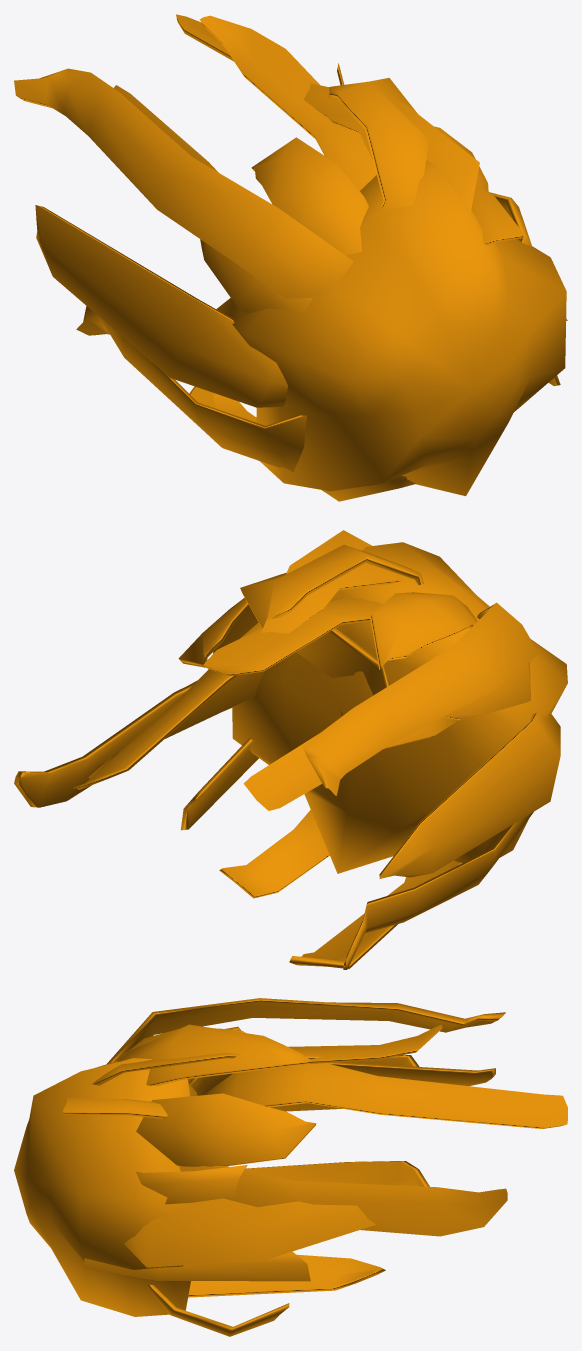
File: fireball_Animated.fbx
The picture shows the model from 3 angles, top to bottom: view 1: azimuth 30°, elevation 25°; view 2: azimuth 150°, elevation 25°; view 3: azimuth 270°, elevation 25°; orthographic projection. The views are drawn at different scales.
Parts seen in each view (by area): view 1: Firbal; view 2: Firbal; view 3: Firbal.
Boxes of the visible parts, x1,y1,x2,y2 form: Firbal: [14, 14, 567, 501]; Firbal: [14, 530, 567, 969]; Firbal: [14, 998, 567, 1336].
Bounding box in the file's own units: 1.75 × 1.54 × 2.72.
